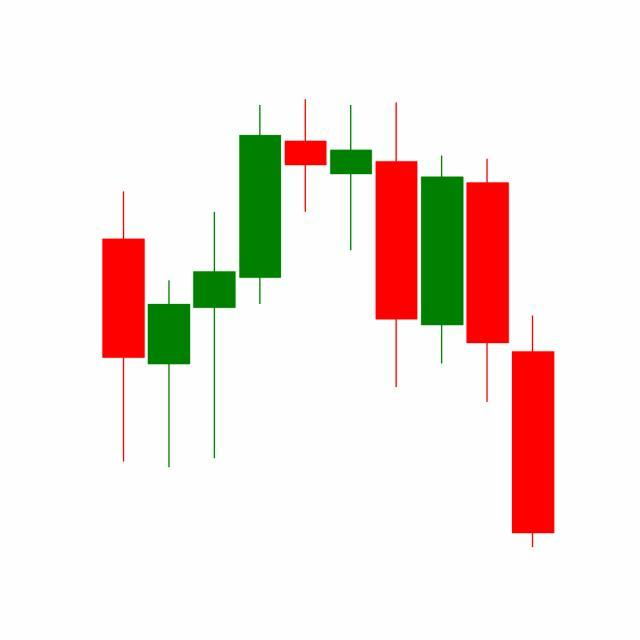Hikkake Pattern: (283, 99, 512, 407)
